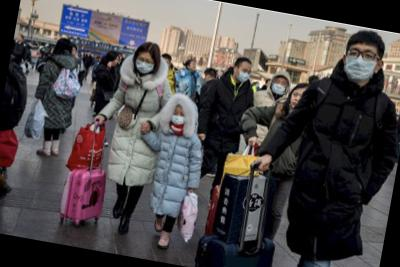with_mask: (342, 45, 379, 86), (133, 55, 156, 74), (269, 77, 288, 96), (235, 66, 252, 84), (168, 109, 187, 125)
without_mask: (288, 90, 304, 109), (112, 57, 120, 67), (189, 61, 197, 70)
